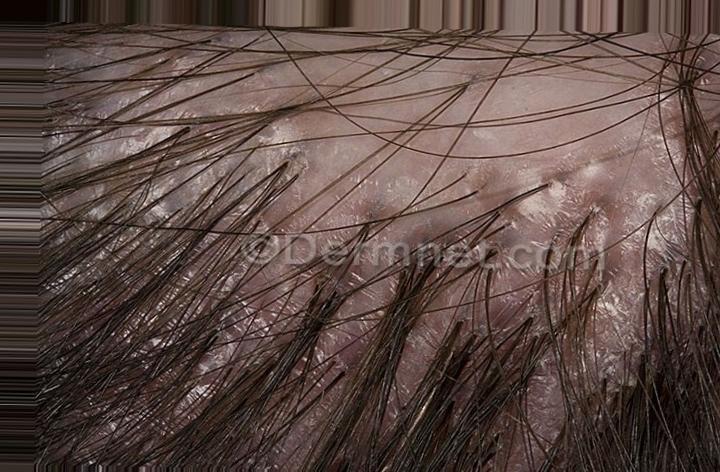Folliculitis: (431, 131, 651, 256)
